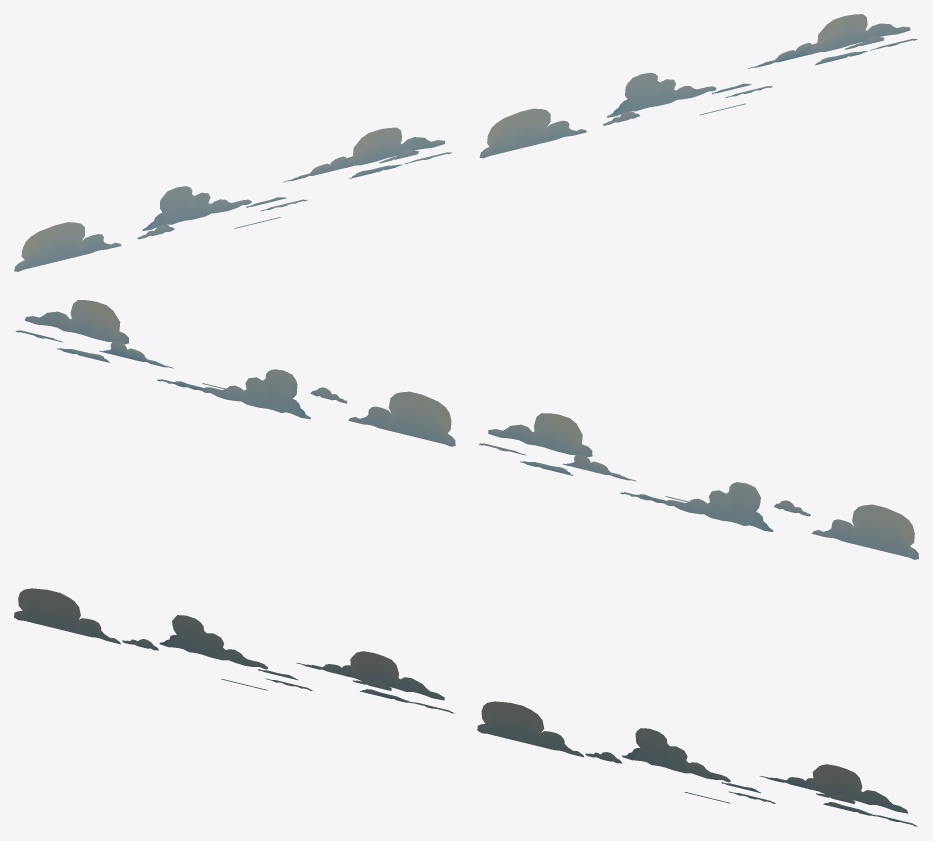
File: Tom1_Background_Clouds.fbx
3 views of the same model, one above another, from view 1: azimuth 30°, elevation 25°; view 2: azimuth 150°, elevation 25°; view 3: azimuth 330°, elevation 25° (orthographic).
Visible parts, largest first — view 1: clouds; view 2: clouds; view 3: clouds.
Boxes of the visible parts, <box> form: clouds: <box>14,14,917,271</box>; clouds: <box>14,300,918,559</box>; clouds: <box>14,588,917,826</box>.
Size of the model in its own units: 9811 by 623 by 418.
